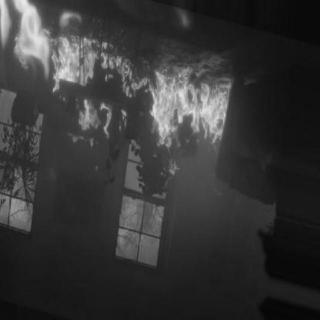Fire: (147, 58, 231, 168)
